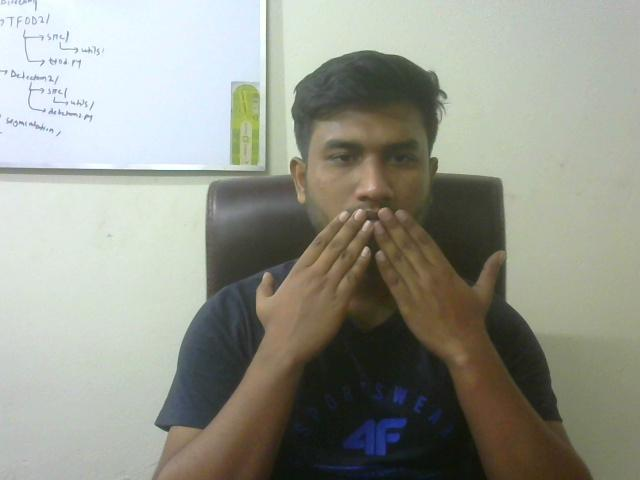Thanks: (248, 210, 524, 356)
